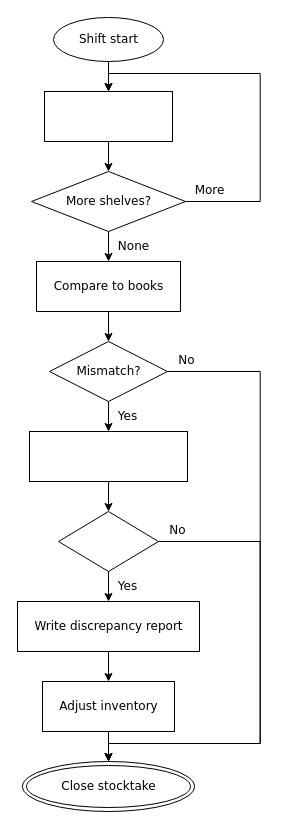
Some shapes in this 286 by 829 pixel diagram are drawn without their labels. The centre of each missing label's shape, as x and y in pixels:
"Recount mismatches" goes at (108,456).
"Scan each shelf" goes at (108,116).
"Still off?" goes at (108,541).
